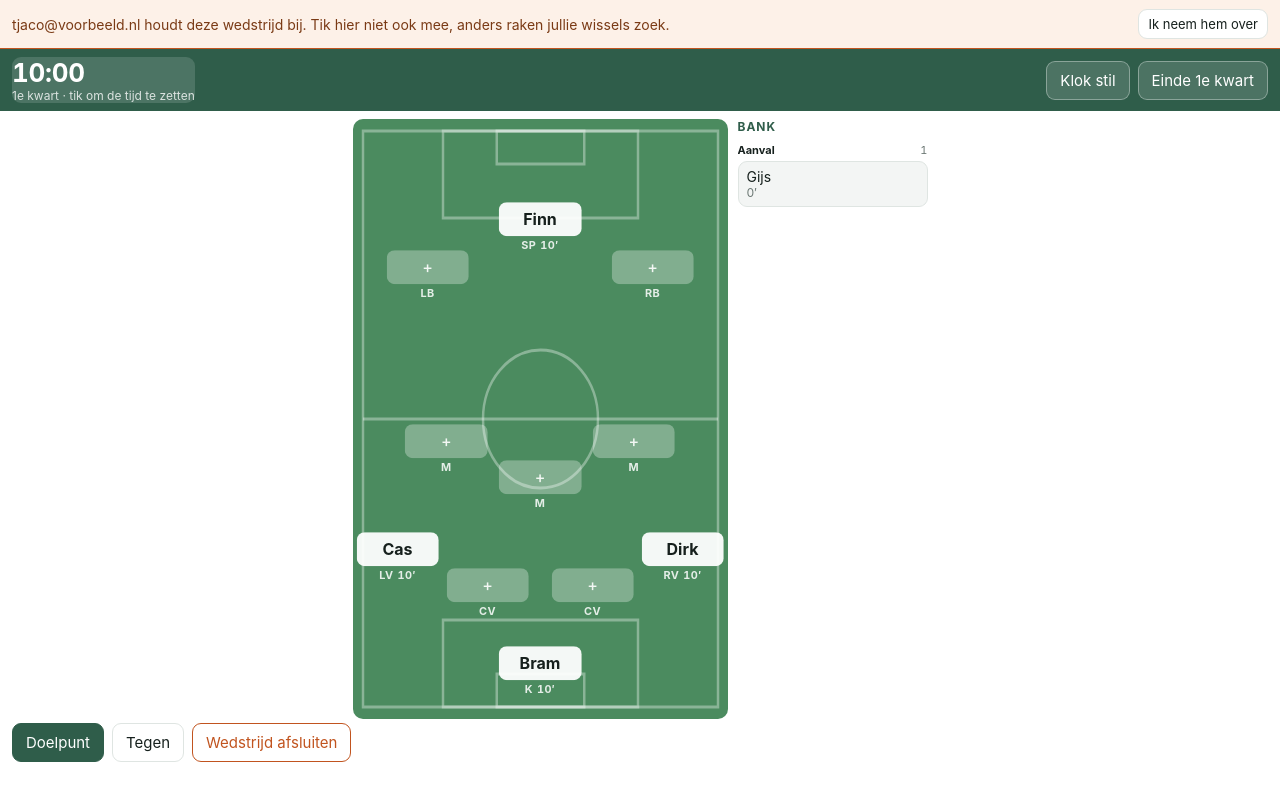
Test: het wedstrijdscherm tijdens een wedstrijd › laat je hem overnemen als de andere telefoon leeg is
Click the button "Ik neem hem over". click: (1203, 24)
box: x1=1138 y1=9 x2=1268 y2=39
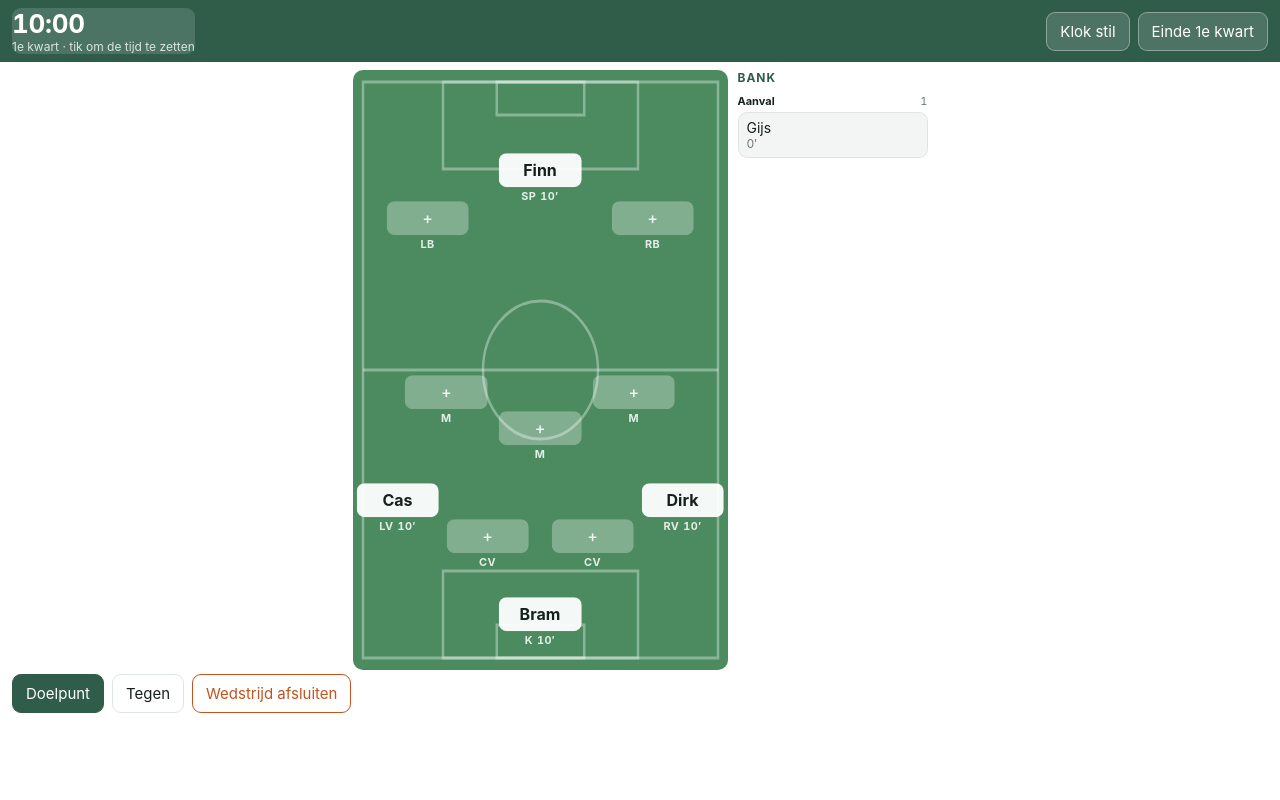
Result: the element with class "waarschuwing" is gone
